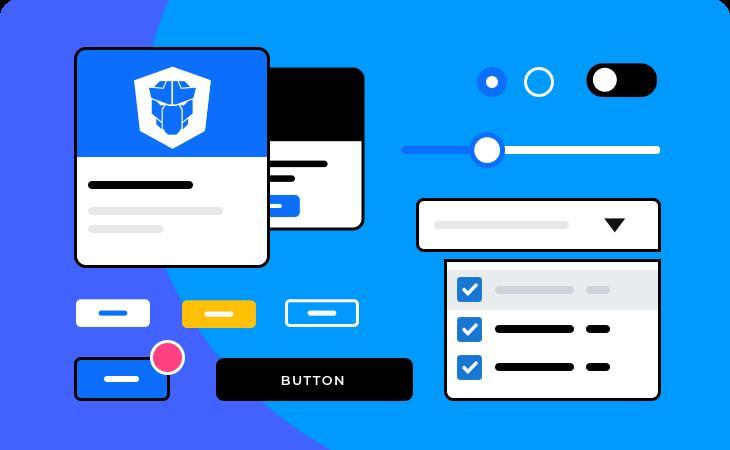button: (218, 359, 415, 402), (183, 300, 258, 330), (286, 300, 361, 328), (76, 301, 151, 328)
dropdown: (418, 200, 661, 253)
radio: (477, 67, 509, 98), (524, 67, 555, 99)
slider: (394, 132, 676, 172)
switch: (585, 63, 658, 98)
